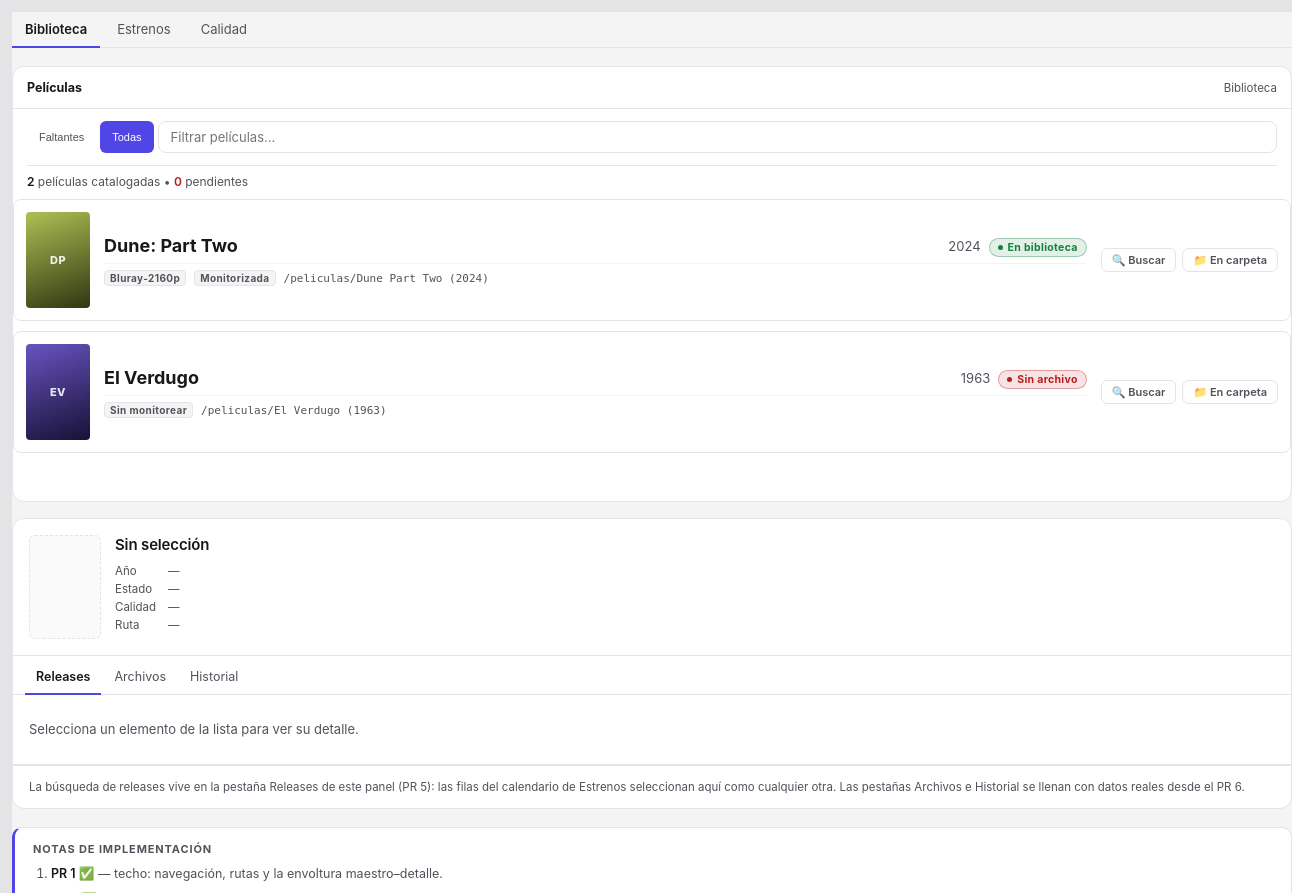
Test: inspector header · IMDb and Radarr ID chips › keeps the ID but drops the IMDb chip when Radarr never sent one
Check: the text "Dune: Part Two" is shown, box top-left (104, 235), bottom-right (238, 256)
Click the element with class "sec-row" that starts with "El Verdugo". click: (652, 392)
box: top-left (13, 331), bottom-right (1291, 453)
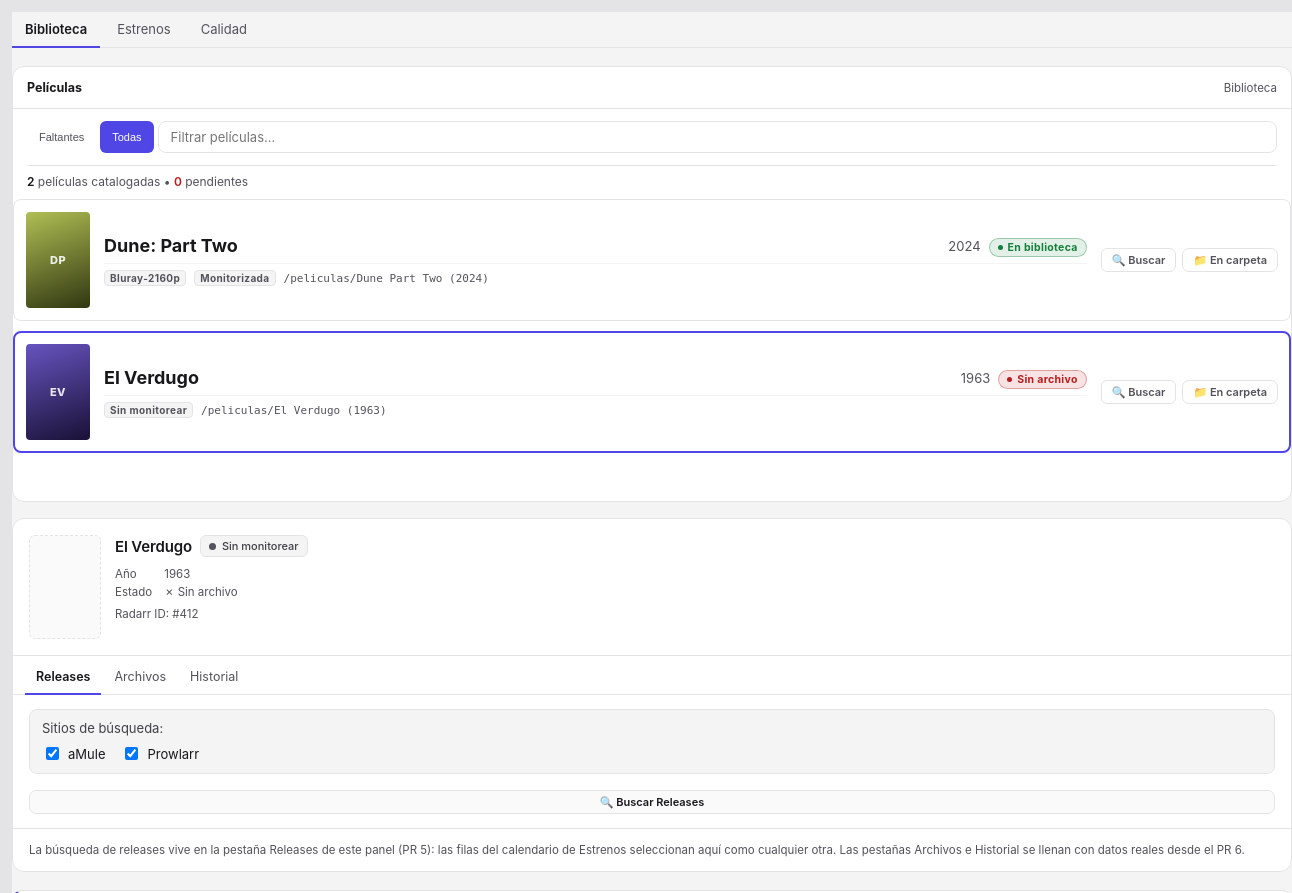
Check: the text "Radarr ID: #412" is shown, box top-left (115, 607), bottom-right (198, 621)
